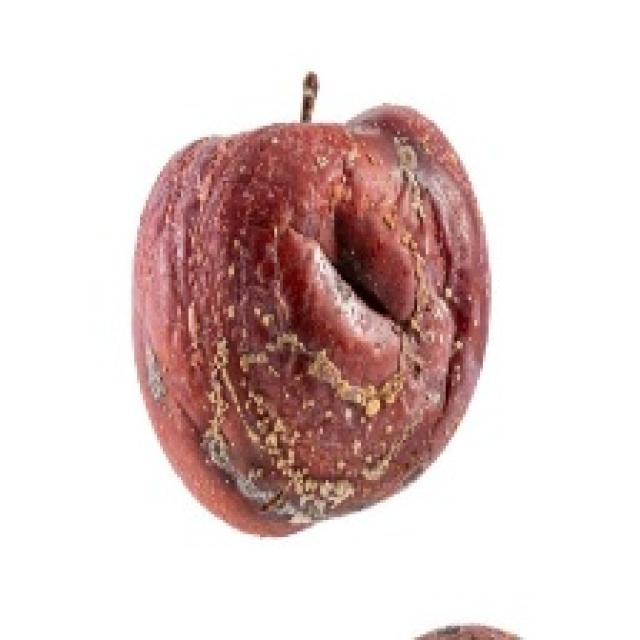rotten_apple: (138, 110, 485, 531)
